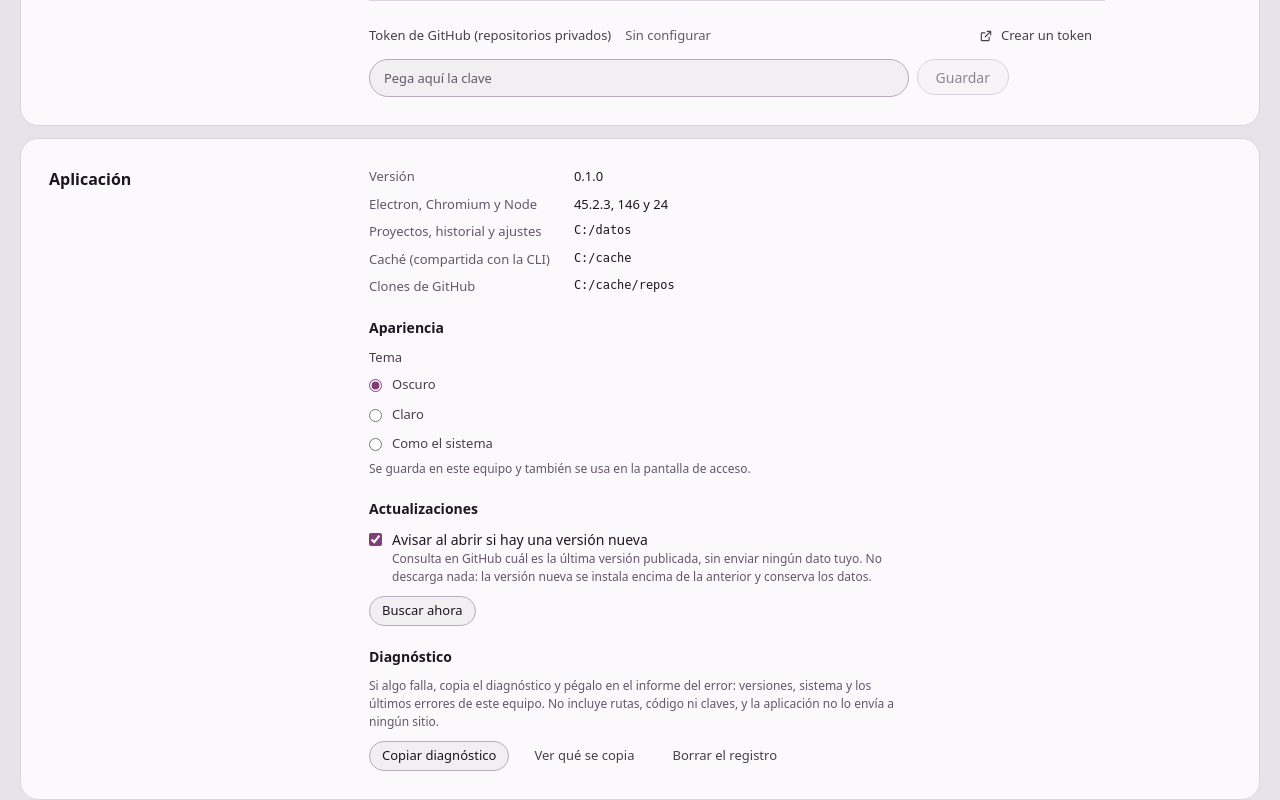
it: Configuración › si el tema no se puede cambiar, lo dice y deja el anterior
(page scrolled)
Click the radio button labelled "Claro": {"x": 376, "y": 415} [369,408,382,422]
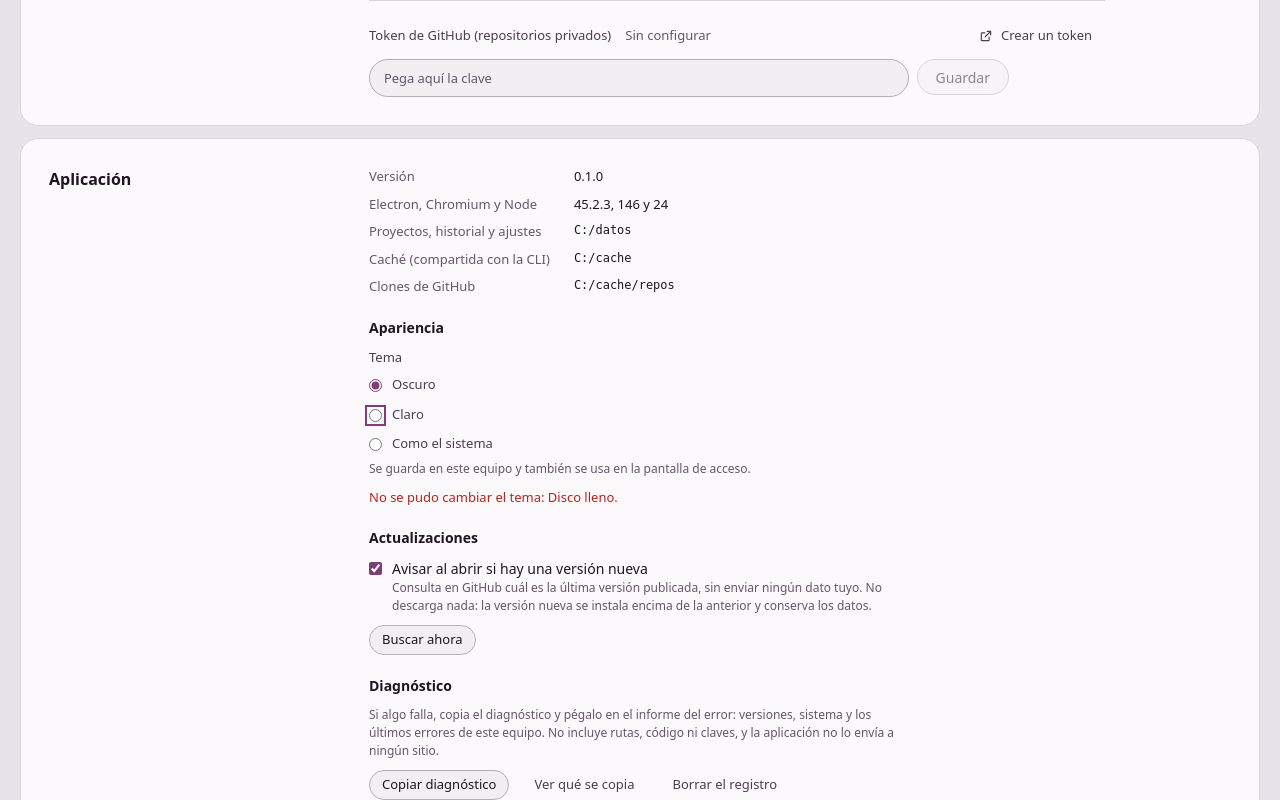
Expected: the radio button labelled "Oscuro" is checked, [369,379,382,392]
Result: the message reads "No se pudo cambiar el tema: Disco lleno." at [369,488,618,506]
